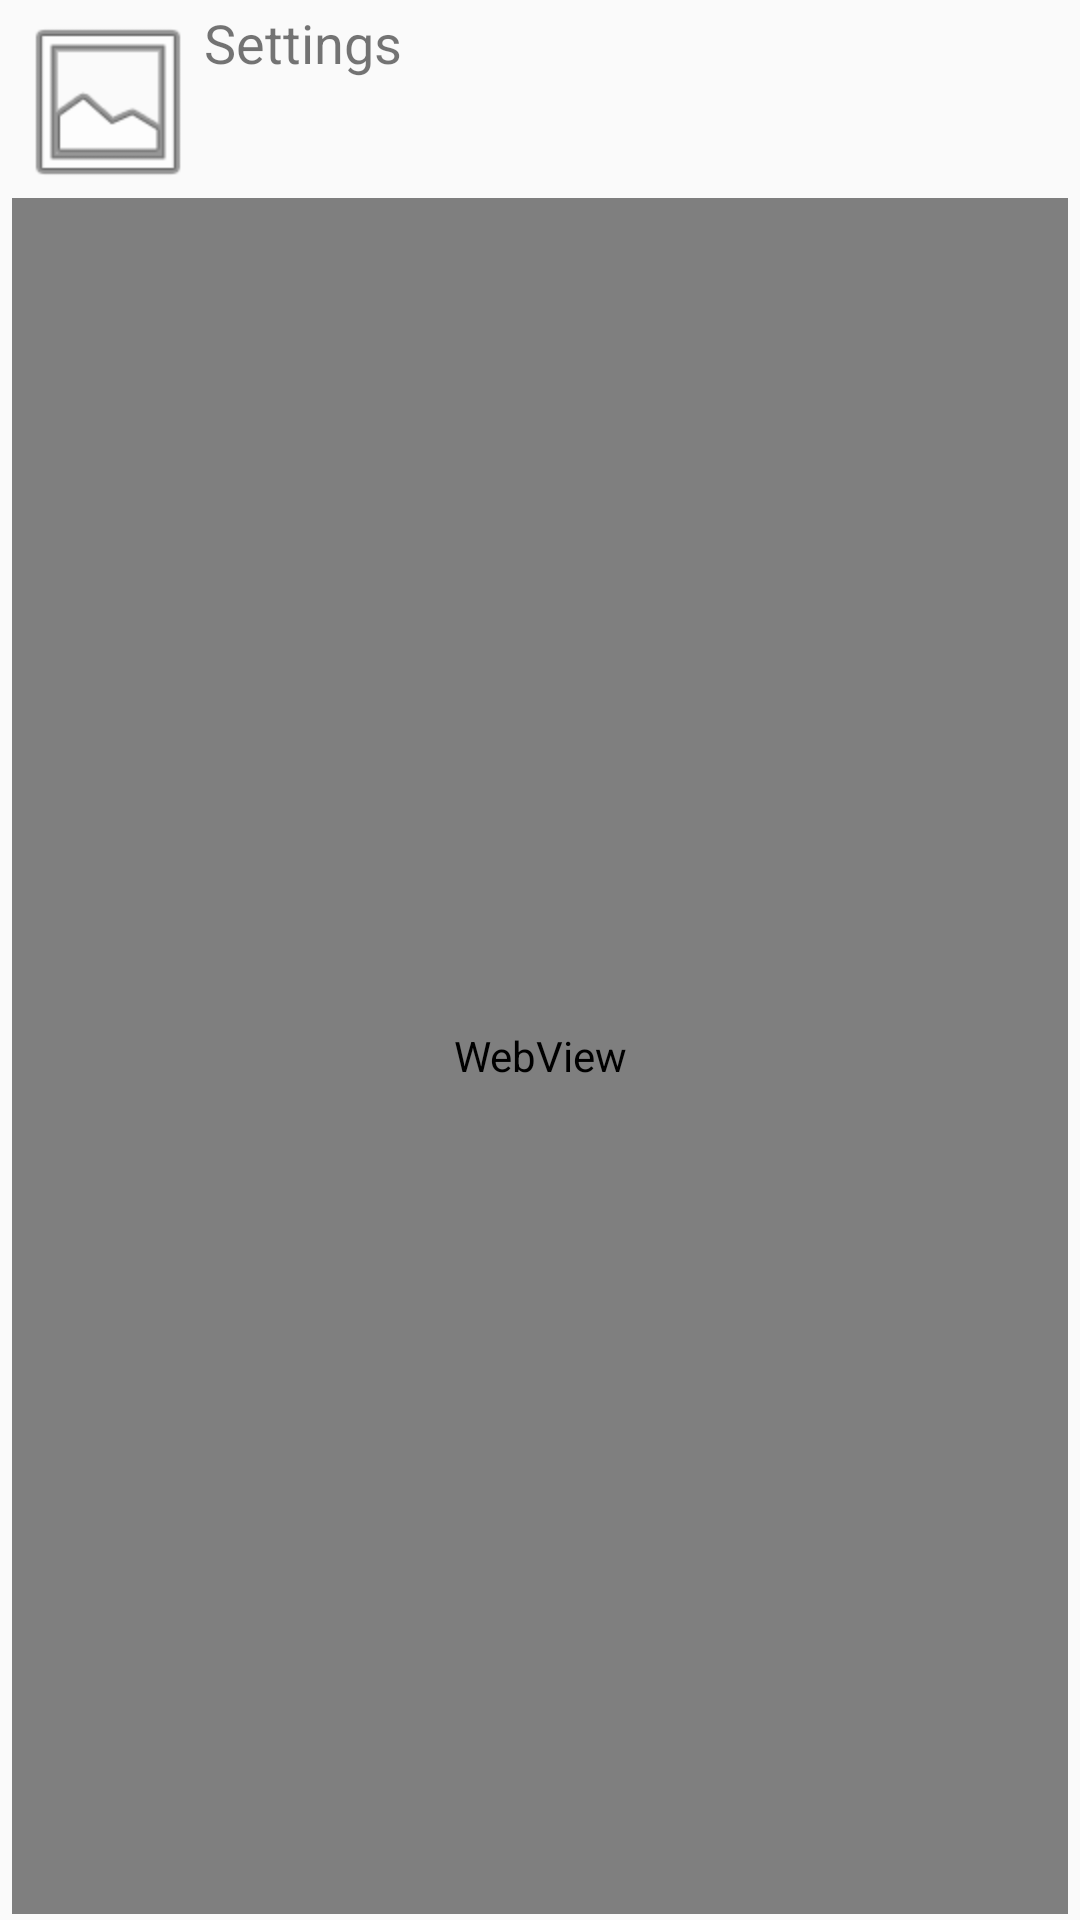

Locate icon controls on the screen. Image size 1080*1920, boxes as (x1, y1, x2, y2).
gallery: (36, 29, 180, 175)
